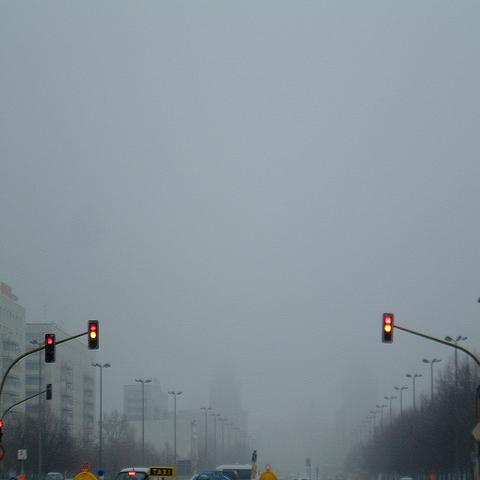car: (212, 465, 253, 479), (120, 463, 148, 479), (190, 469, 232, 479), (42, 473, 63, 480)
